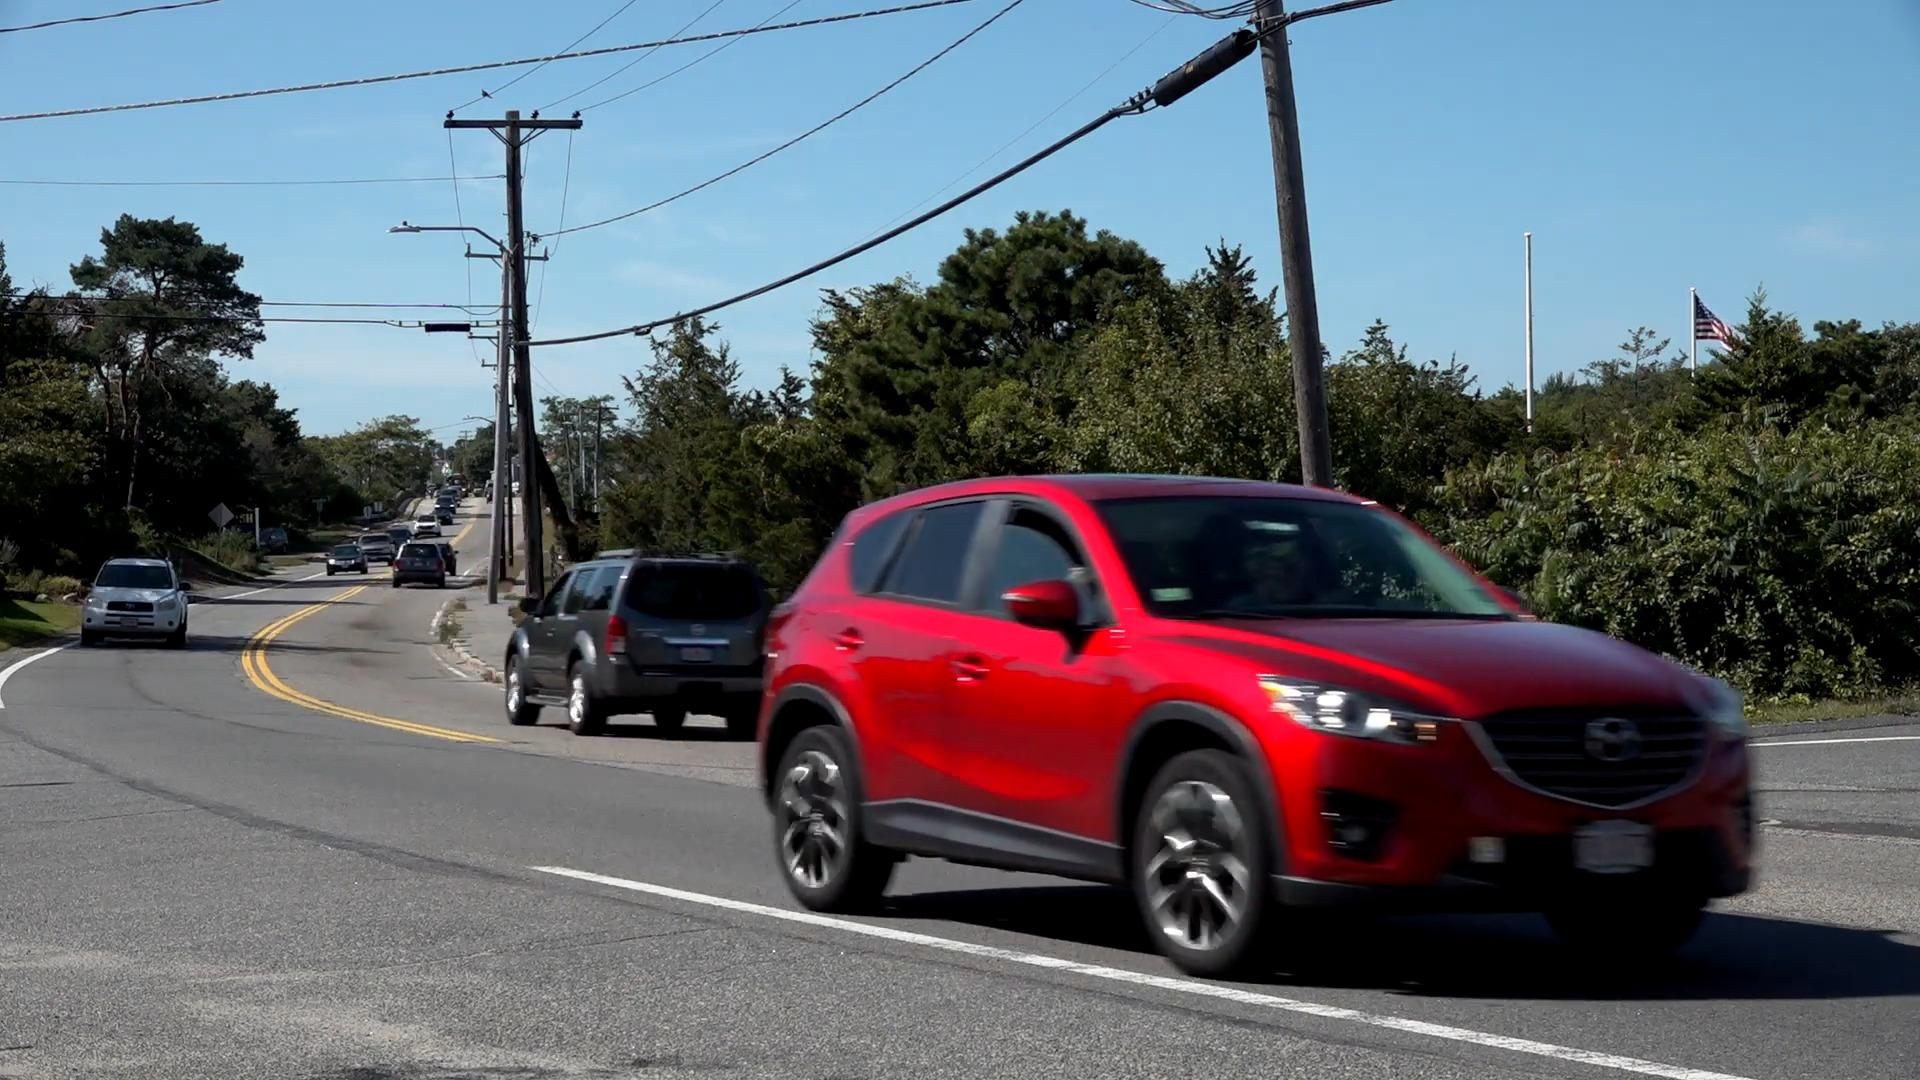suv: (765, 472, 1764, 984), (506, 555, 760, 727), (80, 555, 189, 650), (393, 543, 450, 588)
